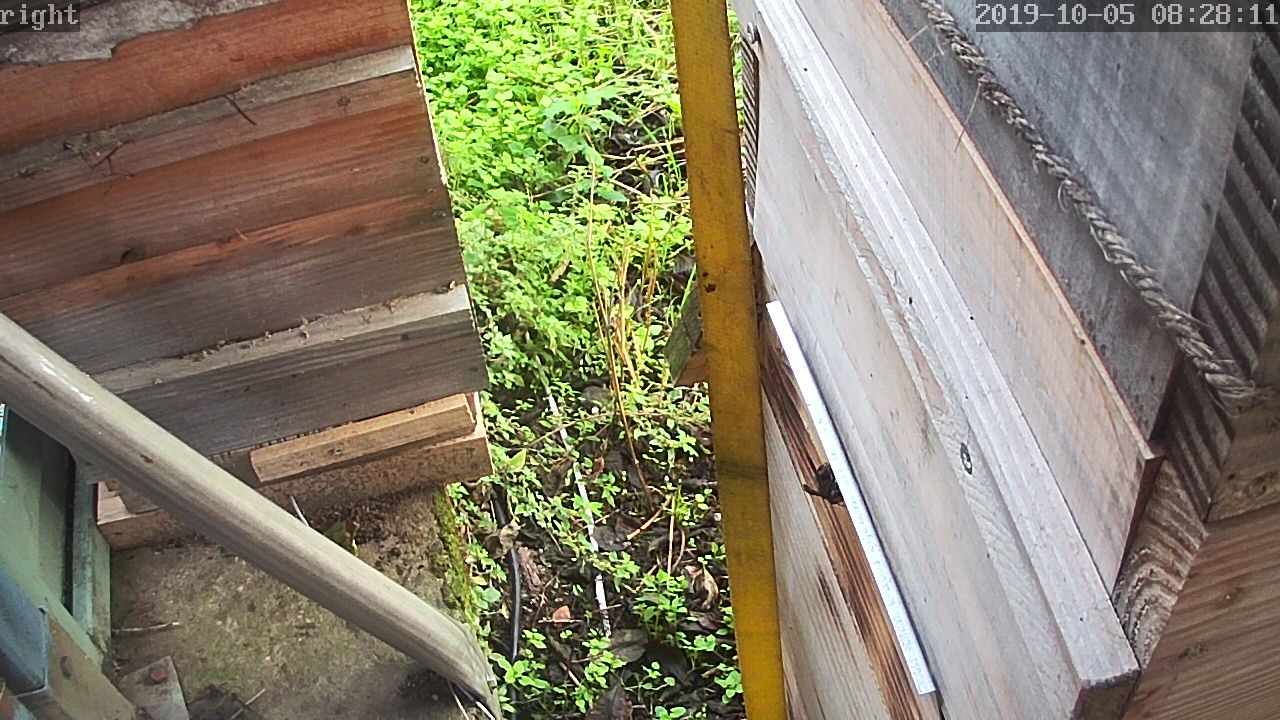bee: (801, 456, 844, 504)
hornet: (323, 489, 393, 550), (649, 251, 690, 299)
